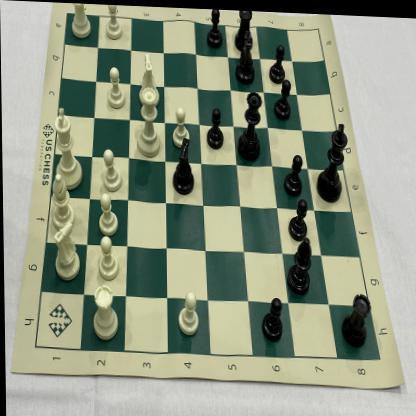black-bishop: (283, 234, 314, 293)
black-king: (313, 115, 349, 202)
black-knight: (171, 134, 196, 197), (233, 26, 257, 85)
black-pawn: (257, 291, 282, 343), (282, 149, 306, 196), (286, 194, 309, 241), (205, 103, 226, 149), (272, 74, 293, 119), (267, 38, 287, 84), (204, 7, 224, 50)
black-queen: (236, 85, 263, 163)
black-rook: (336, 287, 373, 346), (234, 8, 255, 52)
white-bishop: (47, 171, 75, 231)
white-king: (50, 106, 83, 190)
white-knight: (48, 219, 80, 282), (137, 49, 161, 105)
white-pawn: (176, 287, 200, 339), (95, 234, 120, 282), (97, 146, 123, 192), (95, 190, 119, 236), (105, 64, 127, 109), (170, 102, 191, 148), (103, 4, 125, 41)
white-queen: (134, 84, 163, 158)
white-rook: (89, 282, 118, 339), (67, 2, 93, 40)
